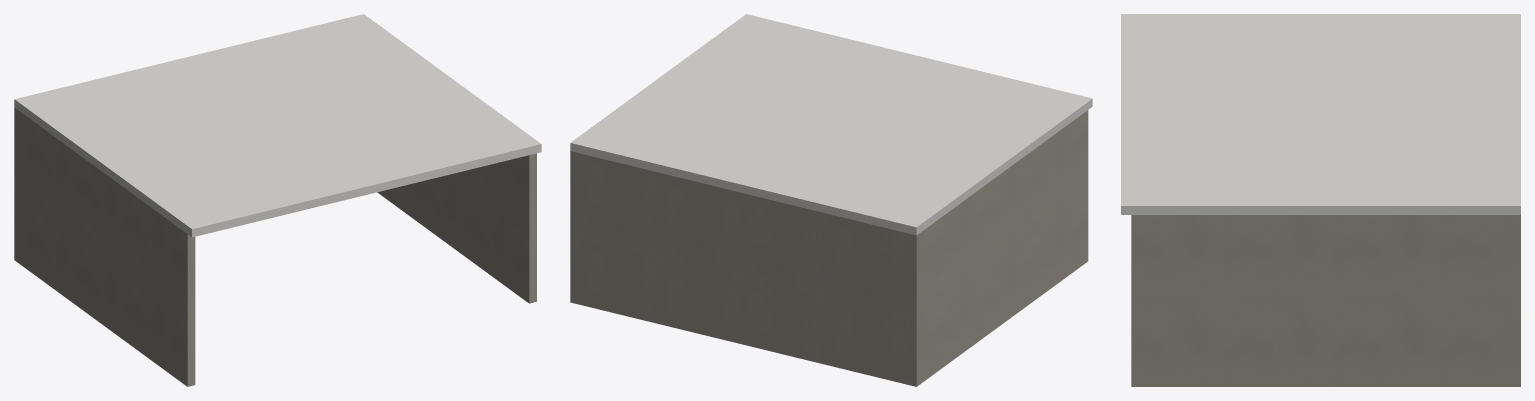
File: garage-shell-DMM-ZjpZ.glb
3 views of the same model, side by side, from view 1: azimuth 30°, elevation 25°; view 2: azimuth 150°, elevation 25°; view 3: azimuth 270°, elevation 25° (orthographic). The views are drawn at different scales.
Visible parts, largest first — view 1: Ceiling, WallLeft, WallRight, BackWall; view 2: Ceiling, BackWall, WallLeft; view 3: Ceiling, WallRight, BackWall.
Part boxes in pixels (bbox=[...]): Ceiling: bbox=[14, 14, 541, 237]; WallLeft: bbox=[19, 111, 195, 386]; WallRight: bbox=[377, 153, 536, 303]; BackWall: bbox=[14, 107, 18, 263]; Ceiling: bbox=[570, 14, 1092, 235]; BackWall: bbox=[570, 151, 920, 386]; WallLeft: bbox=[921, 110, 1088, 383]; Ceiling: bbox=[1121, 14, 1520, 214]; WallRight: bbox=[1131, 215, 1510, 386]; BackWall: bbox=[1510, 215, 1520, 386].
Size of the model in its own units: 6.7 by 2.95 by 5.9.
8 materials, 4 textured.
